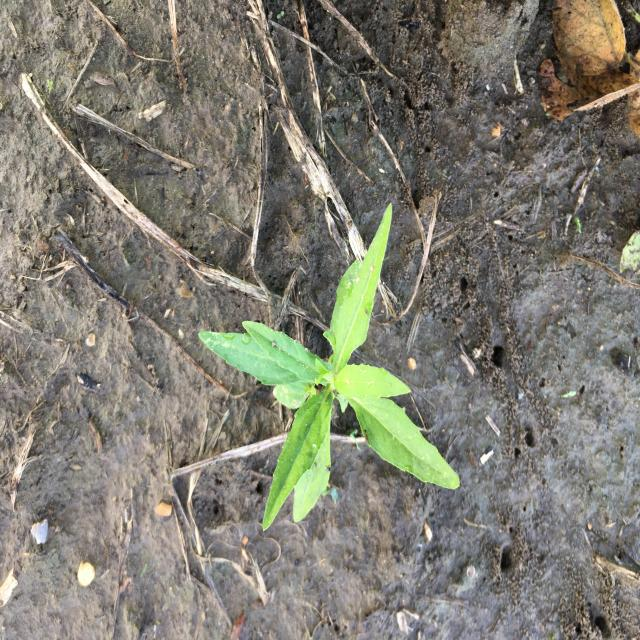Eclipta: (195, 200, 462, 535)
